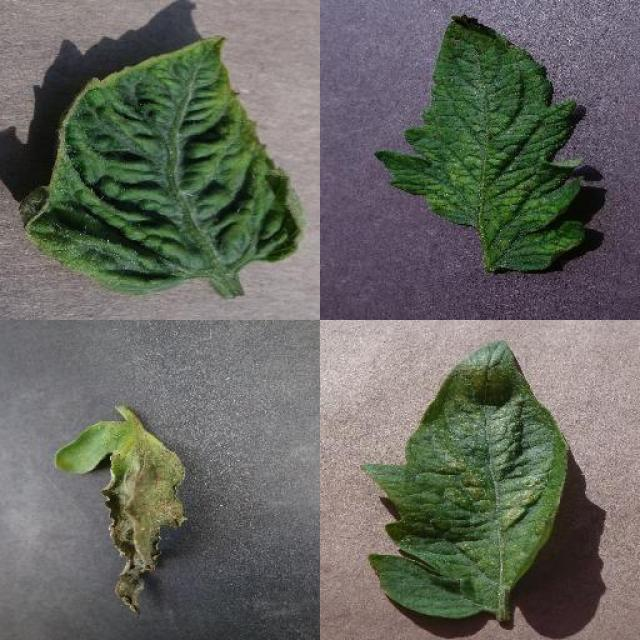Late Blight: (56, 420, 189, 620)
